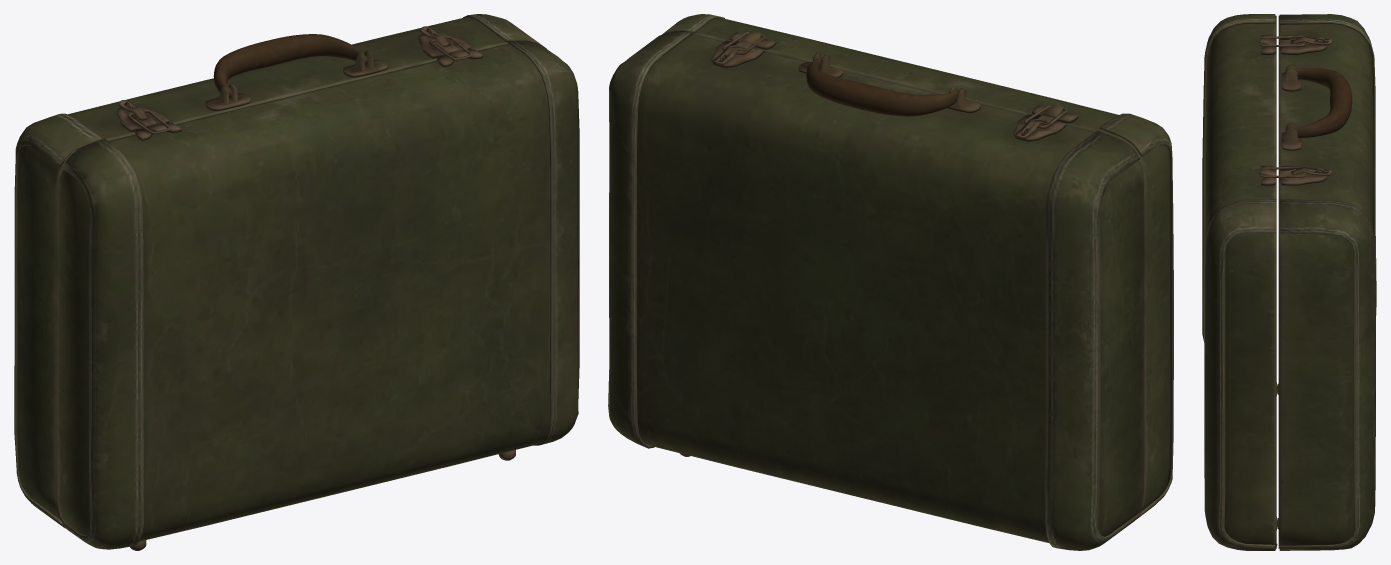
The model's file is ph-suitcase.glb.
The picture shows the model from 3 angles, left to right: view 1: azimuth 30°, elevation 25°; view 2: azimuth 150°, elevation 25°; view 3: azimuth 270°, elevation 25°; orthographic projection. The views are drawn at different scales.
Visible parts, largest first — view 1: vintage_suitcase_01_bottom; view 2: vintage_suitcase_01_bottom; view 3: vintage_suitcase_01_bottom.
Boxes of the visible parts, <box> form: vintage_suitcase_01_bottom: <box>14,14,579,550</box>; vintage_suitcase_01_bottom: <box>608,14,1173,550</box>; vintage_suitcase_01_bottom: <box>1202,14,1376,550</box>.
Size of the model in its own units: 0.6938 by 0.5679 by 0.2392.
Materials: 1 (1 with a texture image).
